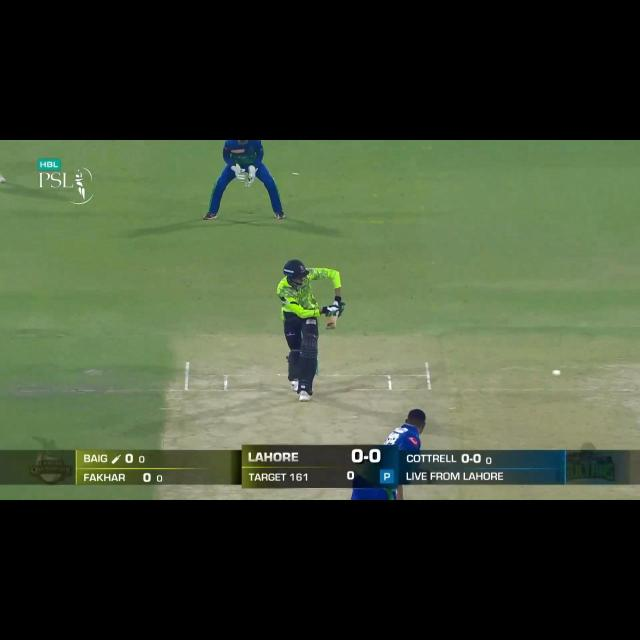bat: (326, 309, 342, 330)
toe: (326, 324, 335, 330)
